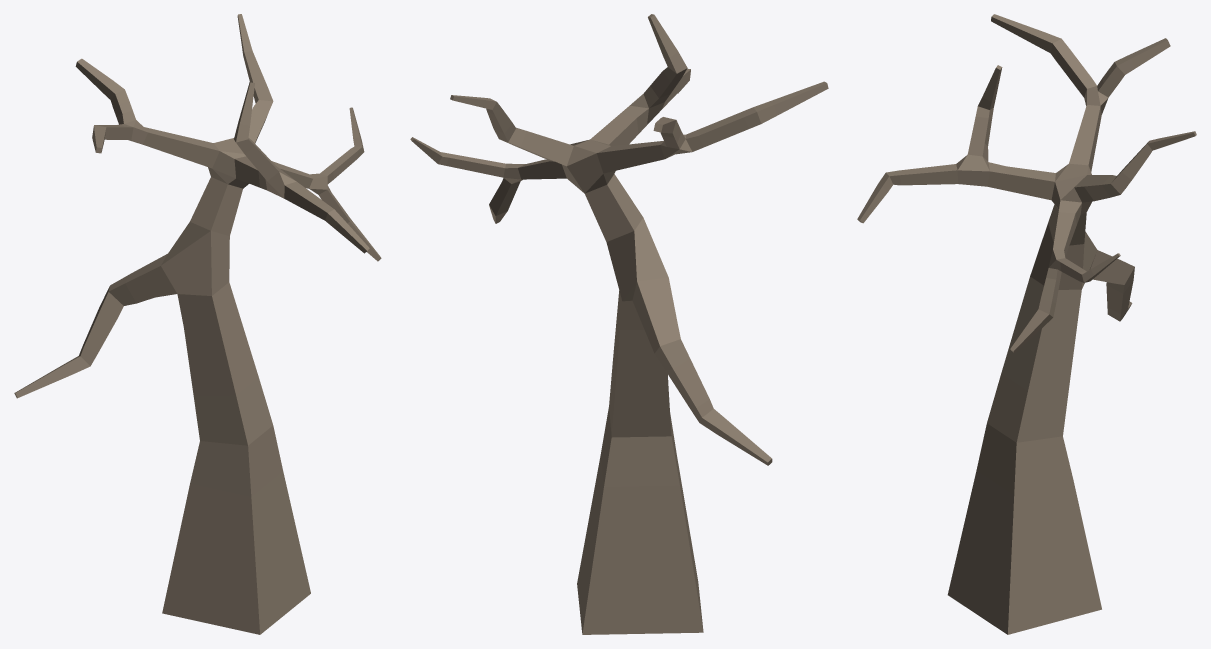
The model's file is Baum2.fbx.
The picture shows the model from 3 angles, left to right: view 1: azimuth 30°, elevation 25°; view 2: azimuth 150°, elevation 25°; view 3: azimuth 270°, elevation 25°; orthographic projection. The views are drawn at different scales.
Visible parts, largest first — view 1: Plane.001; view 2: Plane.001; view 3: Plane.001.
Boxes of the visible parts, x1,y1,x2,y2 form: Plane.001: [14, 14, 381, 634]; Plane.001: [410, 14, 828, 634]; Plane.001: [857, 14, 1196, 634].
Size of the model in its own units: 174 by 265 by 152.
